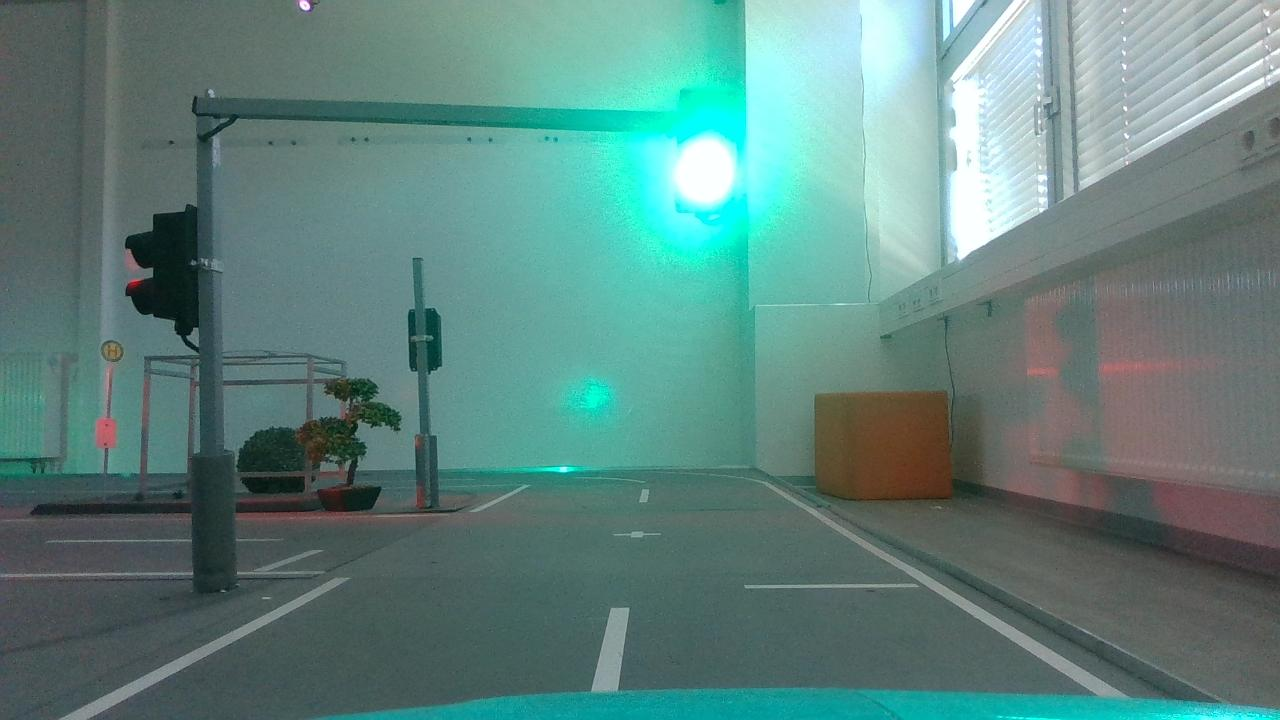traffic_light_green: (650, 60, 760, 249)
